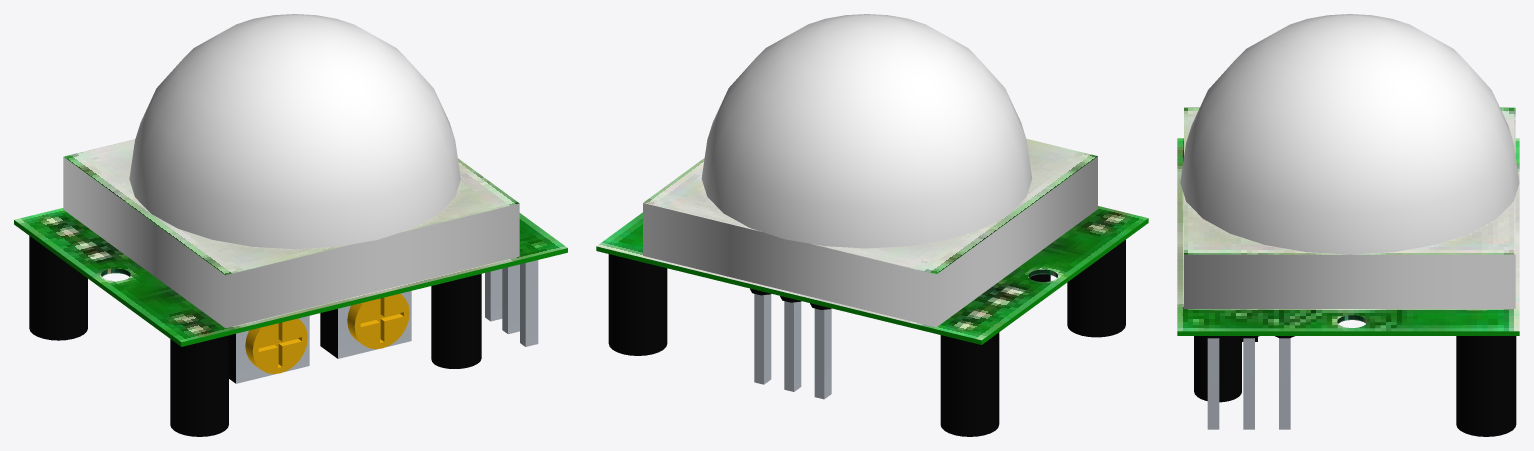
The model's file is pir.glb.
3 renders of one model, left to right at view 1: azimuth 30°, elevation 25°; view 2: azimuth 150°, elevation 25°; view 3: azimuth 270°, elevation 25°, orthographic. The views are drawn at different scales.
Visible parts, largest first — view 1: Material3.001, Material2.007, Material2.006, Material2.001, Material2.002, Material2.003, Material2.005; view 2: Material3.001, Material2.007, Material2.006, Material2.001, Material2.002, Material2.005; view 3: Material3.001, Material2.007, Material2.006, Material2.001, Material2.002, Material2.005.
Part boxes in pixels (x1,y1,x2,y2): Material3.001: [129, 14, 460, 249]; Material2.007: [63, 157, 519, 328]; Material2.006: [14, 139, 567, 342]; Material2.001: [29, 236, 481, 436]; Material2.002: [236, 260, 538, 383]; Material2.003: [245, 293, 409, 373]; Material2.005: [14, 220, 567, 346]; Material3.001: [701, 14, 1032, 248]; Material2.007: [643, 156, 1097, 327]; Material2.006: [597, 138, 1148, 340]; Material2.001: [608, 240, 1125, 436]; Material2.002: [754, 294, 831, 399]; Material2.005: [596, 218, 1148, 344]; Material3.001: [1180, 14, 1519, 254]; Material2.007: [1184, 254, 1515, 308]; Material2.006: [1177, 107, 1519, 331]; Material2.001: [1194, 336, 1516, 436]; Material2.002: [1207, 338, 1290, 429]; Material2.005: [1177, 331, 1519, 335].
Size of the model in its own units: 0.1583 by 0.12 by 0.1187.
11 materials, 3 textured.
